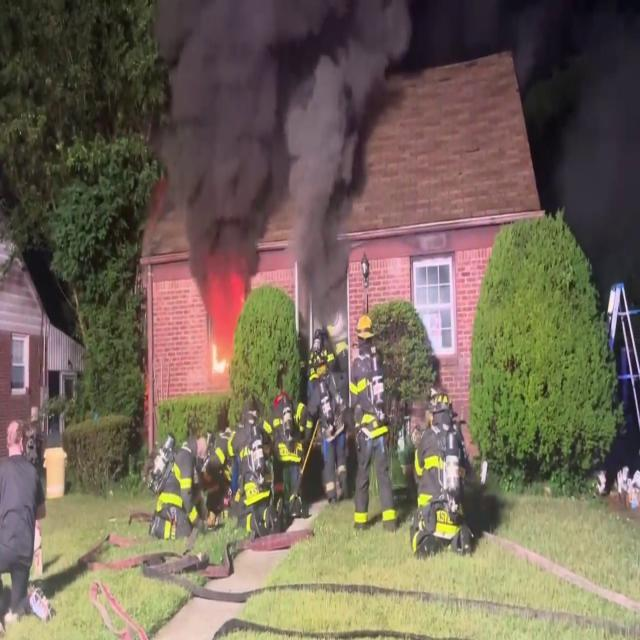Fire: (203, 264, 248, 370)
Smoke: (142, 0, 392, 313), (538, 0, 640, 311)
